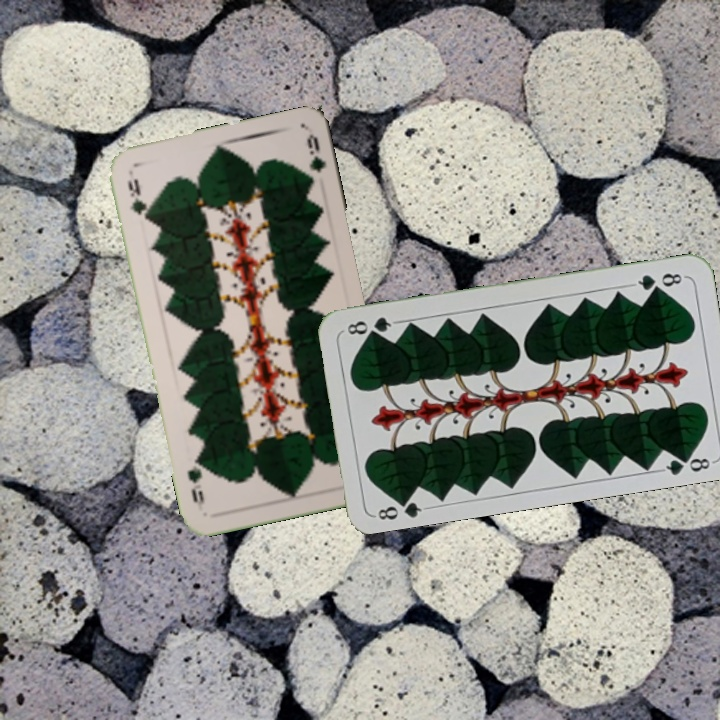G8: (371, 492, 430, 523), (629, 269, 688, 294)
G9: (124, 174, 151, 226)
